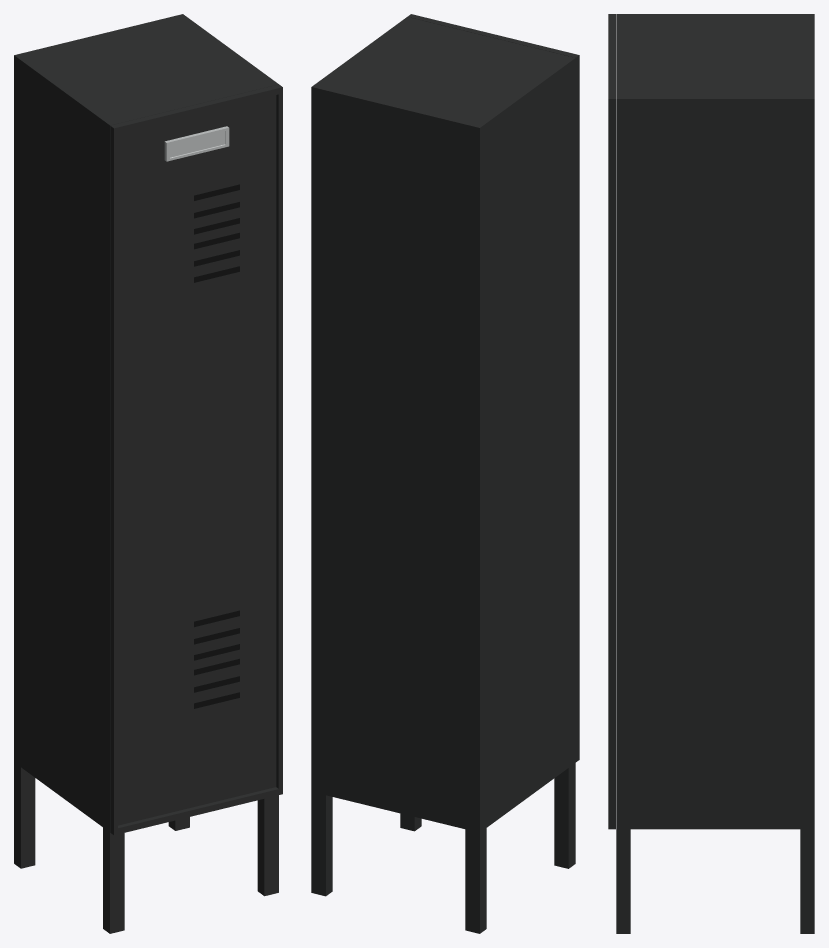
File: Locker.fbx
The picture shows the model from 3 angles, left to right: view 1: azimuth 30°, elevation 25°; view 2: azimuth 150°, elevation 25°; view 3: azimuth 270°, elevation 25°; orthographic projection. The views are drawn at different scales.
Parts seen in each view (by area): view 1: Locker; view 2: Locker; view 3: Locker.
Boxes of the visible parts, bbox=[...] form: Locker: bbox=[14, 14, 282, 933]; Locker: bbox=[311, 14, 579, 933]; Locker: bbox=[608, 14, 814, 933].
Size of the model in its own units: 1 by 4.57 by 1.02.
1 material, 1 textured.
